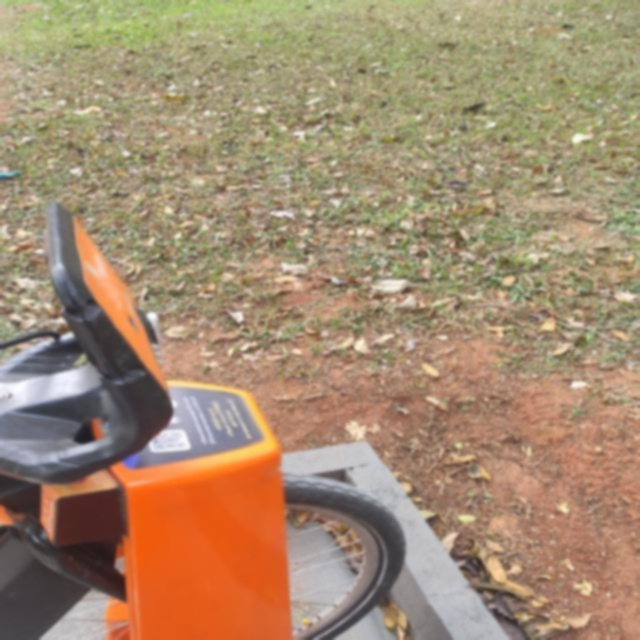qr-code: (152, 432, 185, 449)
